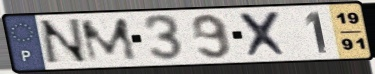1: (303, 11, 329, 54)
3: (144, 13, 184, 64)
9: (189, 12, 233, 60)
M: (77, 16, 141, 64)
N: (37, 17, 92, 67)
X: (237, 10, 293, 59)
